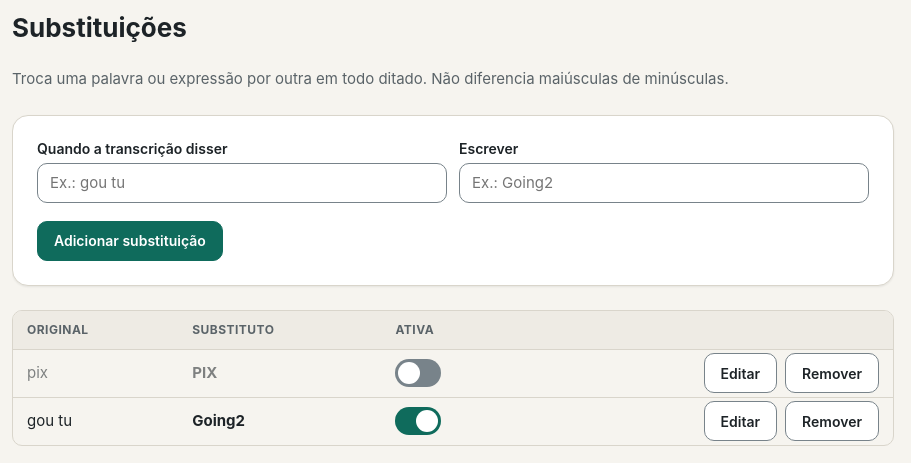
Substituições (F-08) › remove um par e mostra o estado vazio quando não sobra nenhum
What coordinates should you click on to do the following:
click the button with aria-label "Remover gou tu"
I would click on:
 (832, 421)
Its box is [785,401,879,441].
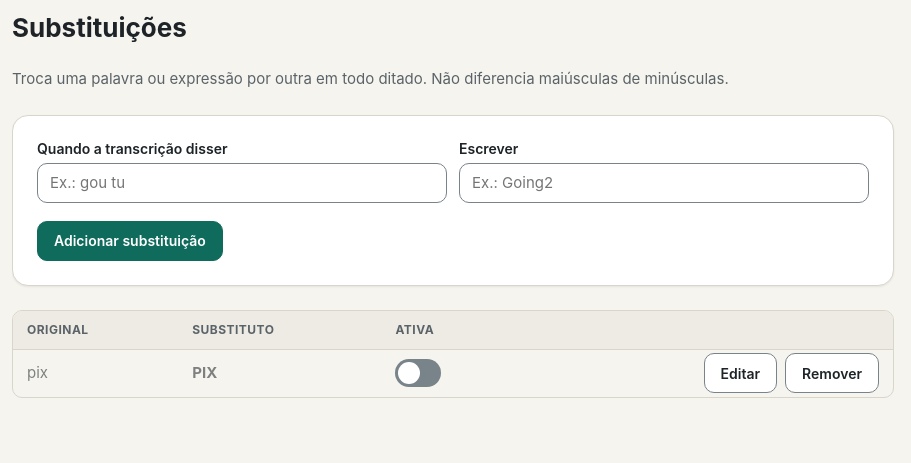
What coordinates should you click on to do the following:
click the button with aria-label "Remover pix"
I would click on:
 (832, 373)
Its box is [785,353,879,393].
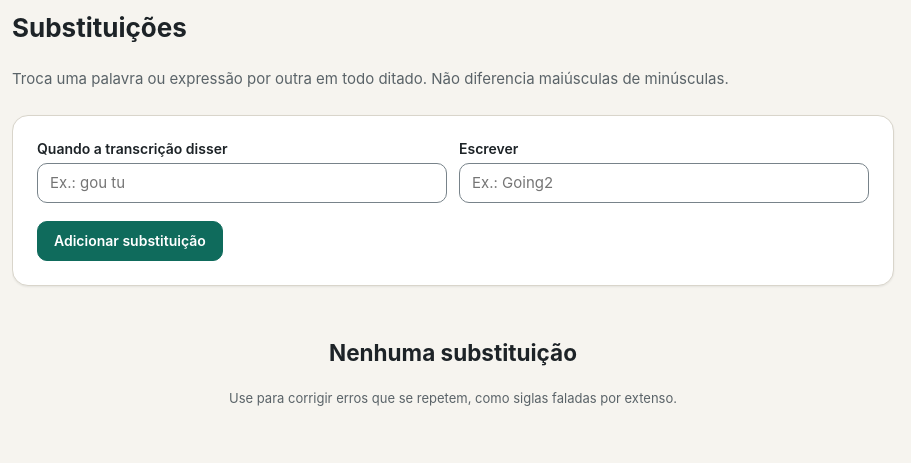
Check: the heading "Nenhuma substituição" is shown, box [329,339,577,366]
